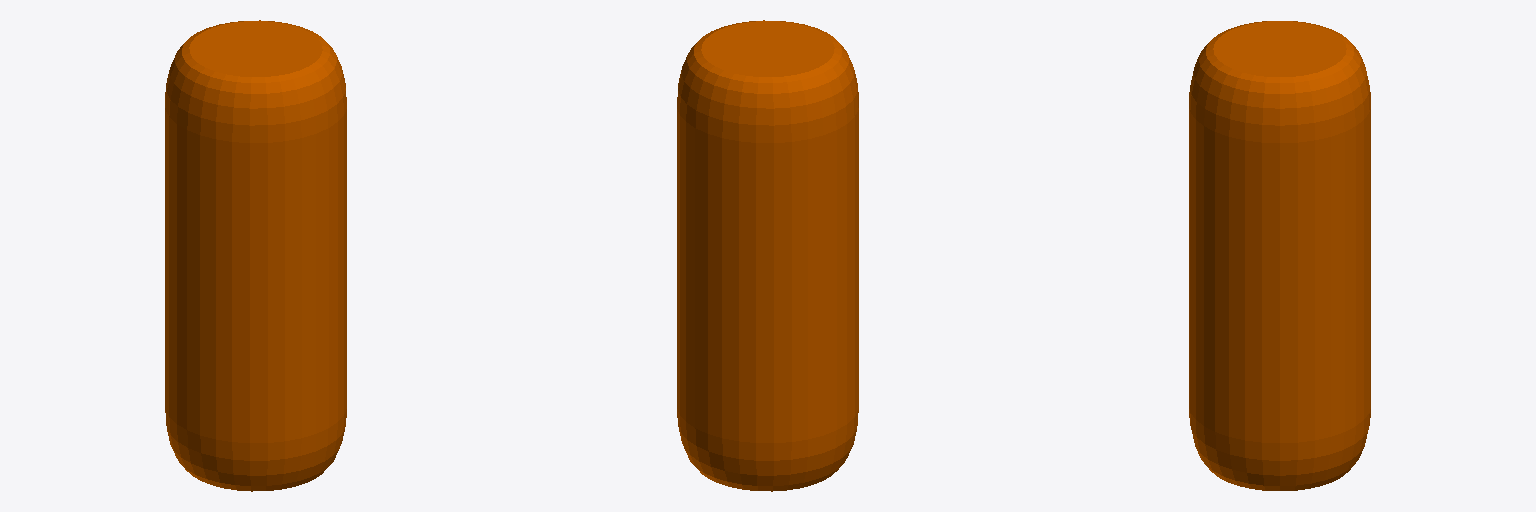
The robot description file, URDF, robot "carrot.urdf":
<robot name="carrot.urdf">
<link name ="base">
    <visual>
      <origin xyz='0 0 0' rpy='0 0 0'/>
      <geometry>
        <mesh filename="carrot.dae"  scale="0.02 0.02 0.02" />
      </geometry>
      <material name="orange">
    	<color rgba="0.8 0.4 0 1."/>
      </material>
    </visual>
    <inertial>
      <mass value="0.002"/>
      <inertia ixx="0.001" ixy="0.0" ixz="0.0" iyy="0.001" iyz="0.0" izz="0.001"/>
    </inertial>
    <collision>
      <origin rpy="0 0 0" xyz="0 0 0"/>
      <geometry>
	 	<mesh filename="carrot_vhacd.obj" scale="0.02 0.02 0.02"/>
      </geometry>
    </collision>
  </link>
</robot>

--- What the picture shows (computed from the rendered views, not written in the file) ---
Views: 3 orthographic renders of the robot side by side, from view 1: azimuth 30°, elevation 25°; view 2: azimuth 150°, elevation 25°; view 3: azimuth 270°, elevation 25°.
Robot: carrot.urdf — 1 links, 0 joints (none); root link base; default pose: all joints at 0.
Visible links, largest first — view 1: base; view 2: base; view 3: base.
Link boxes in pixels (bbox=[...]): base: bbox=[165, 20, 346, 491]; base: bbox=[677, 20, 858, 491]; base: bbox=[1189, 21, 1370, 490].
Bounding box of the posed robot: 0.016 × 0.016 × 0.04 m (x, y, z).
Meshes: 1 distinct files referenced, 1 mesh visuals loaded (1 Collada DAE).